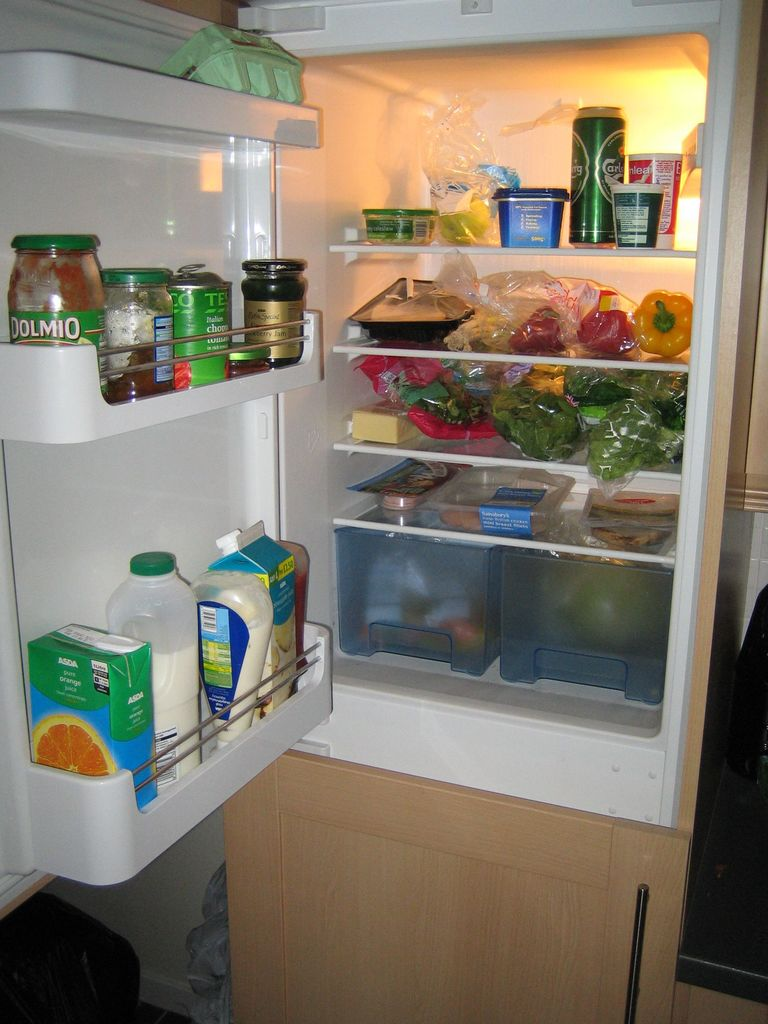handle: (622, 885, 658, 1023)
refrigerator door: (7, 112, 286, 724), (250, 775, 679, 1024)
